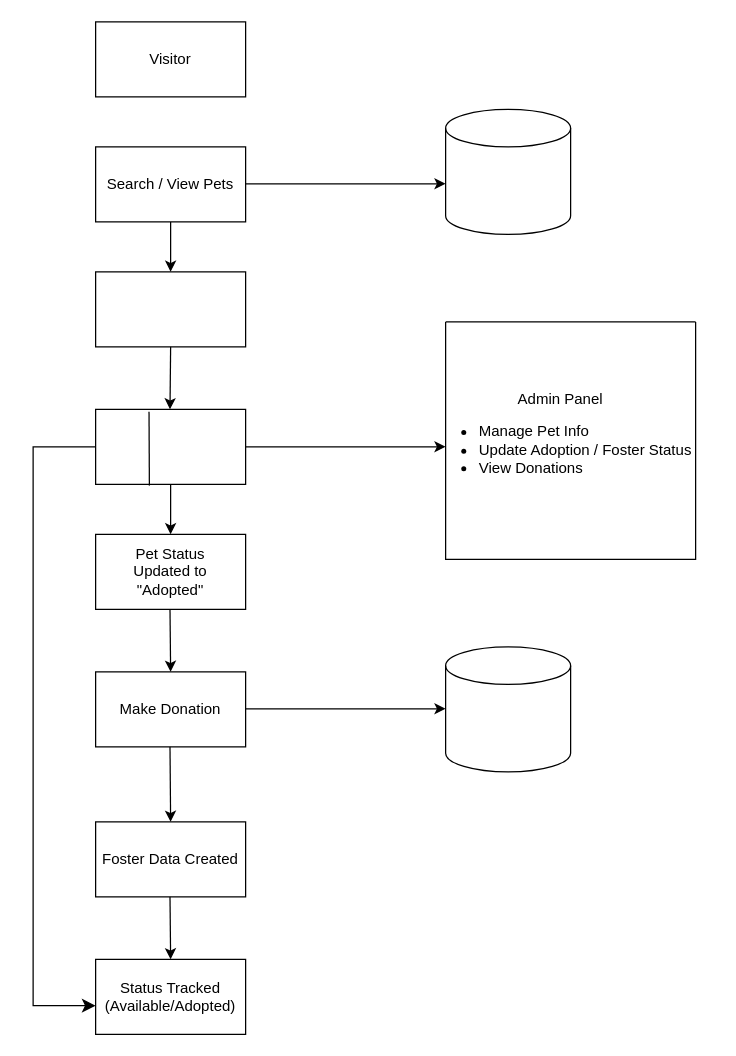
Image size: 736x1056. Some labels were removed from this diagram. Each missing label, with the centre of its shape:
"Adoption Data" goes at (x=507, y=171).
"Apply to Adopt" goes at (x=170, y=309).
"Donation Data" goes at (x=507, y=709).
"via Admin" goes at (x=170, y=446).
